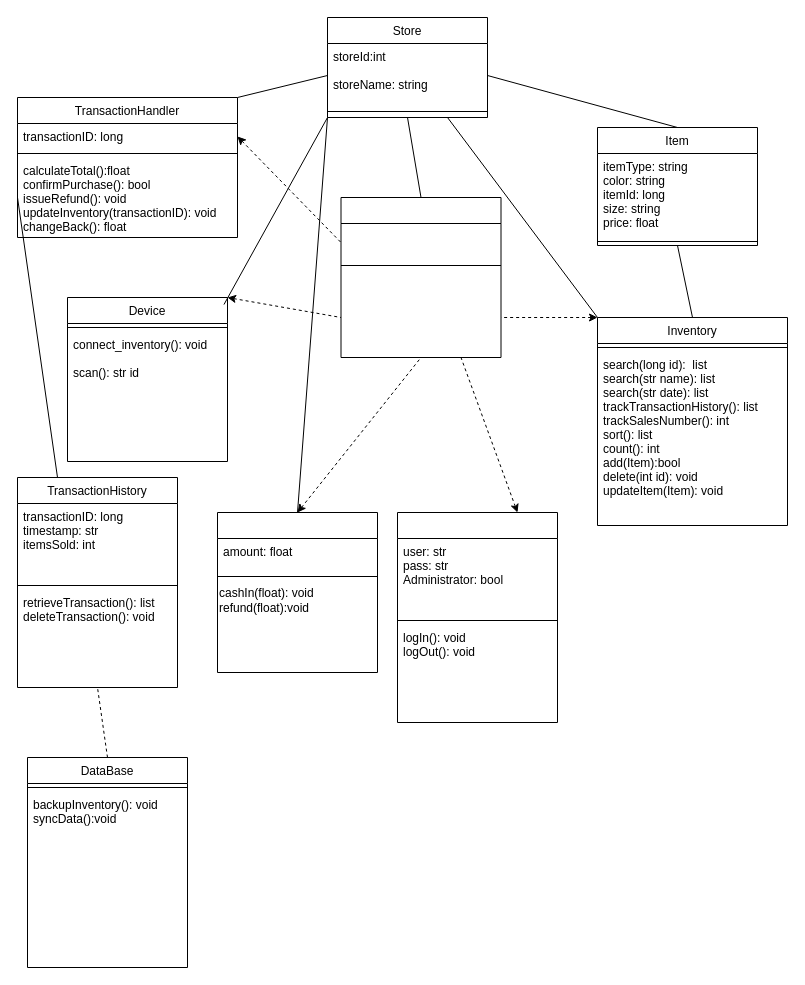
Some shapes in this 805 by 985 pixel diagram are drawn without their labels. Here are the shapes that lost their labels. From the top down, the box of each, then its label:
(340, 196, 501, 358): Point of Sale System
(216, 512, 378, 672): Cashier
(396, 512, 558, 722): EmployeeLogin
